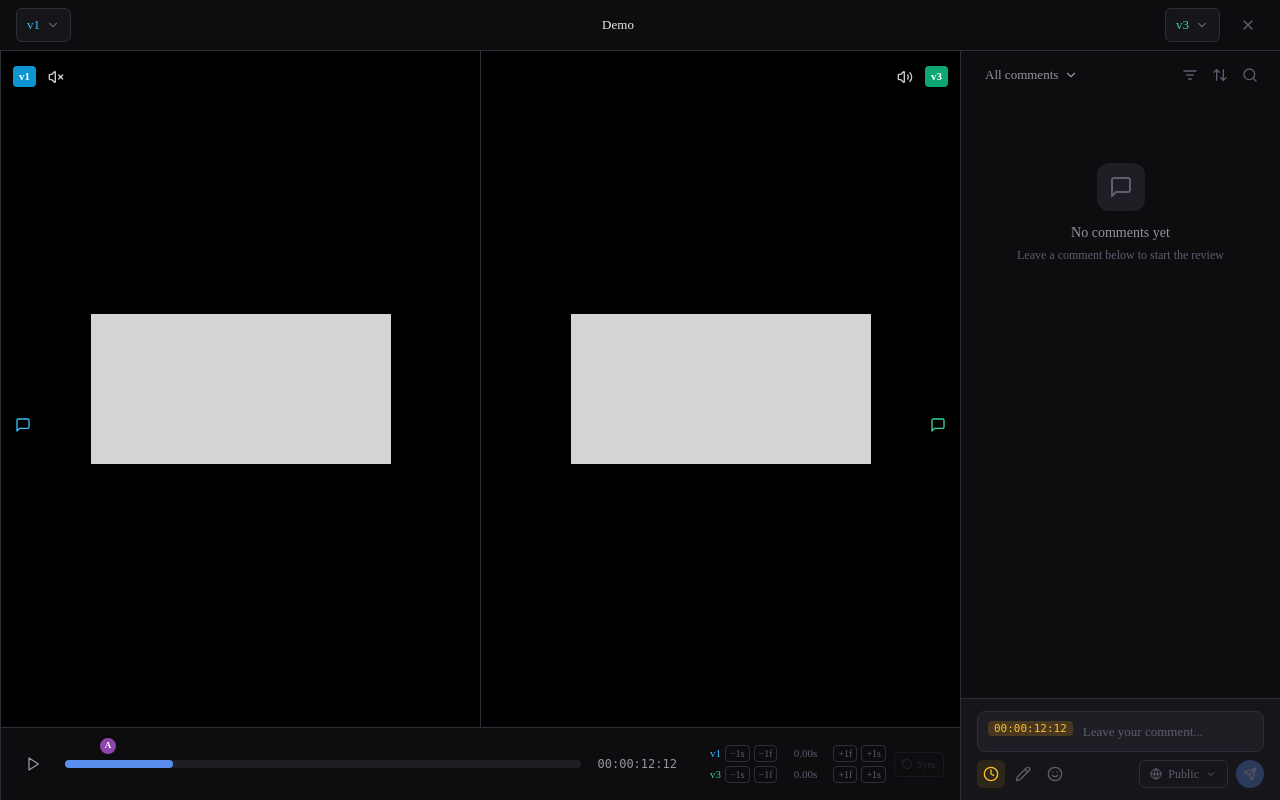
CompareOverlay per-pane annotation display › marker click on an annotated comment mounts the overlay in that video pane only; store untouched
The width and height of the screenshot is (1280, 800).
Click the element with test id "marker-a-c1".
click(108, 746)  # box left=98, top=736, right=118, bottom=756
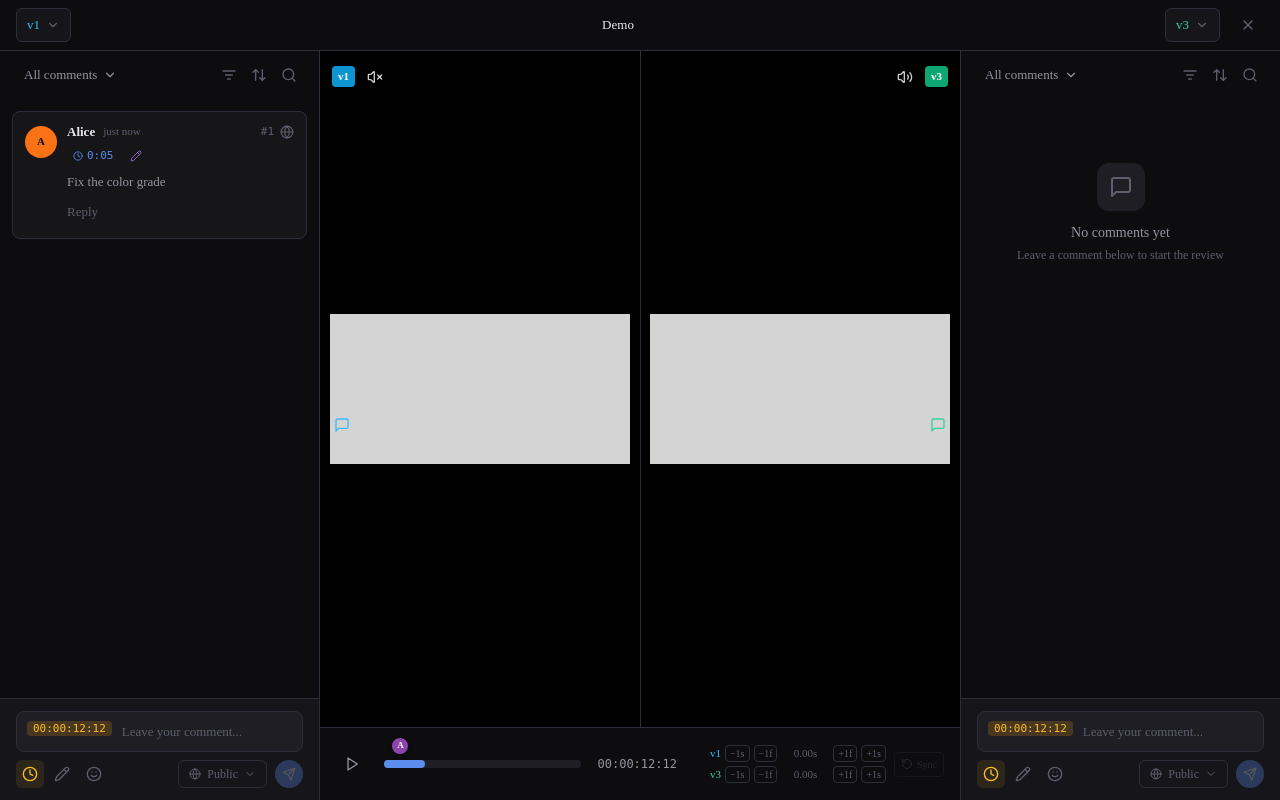
Result: the number of elements with test id "annotation-overlay" is 1 at left=320, top=50, right=620, bottom=200
